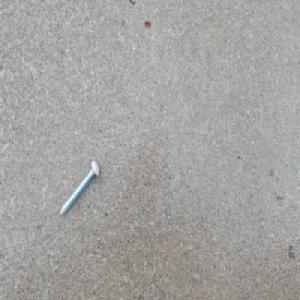Nail: (58, 157, 101, 218)
